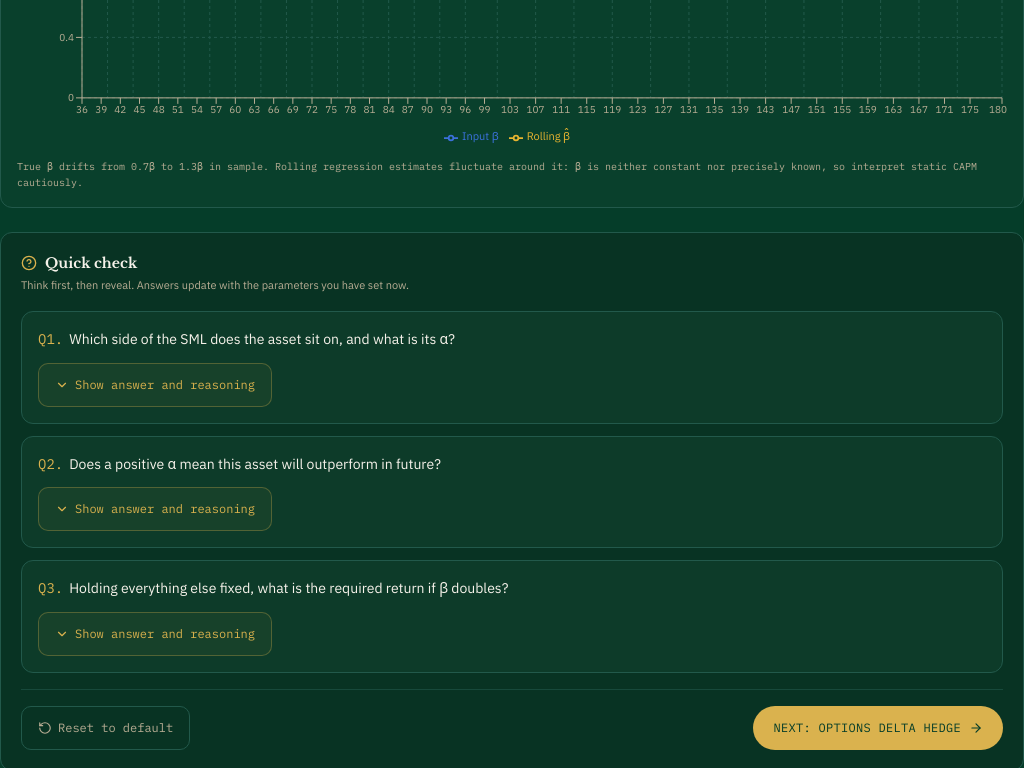
Test: CAPM baseline vs current › Reset restores defaults, closes revealed answers and clears the baseline
This screenshot has width=1024, height=768.
Later steps or results of the test are not shown.
(page scrolled)
Click the 1st button "Show answer and reasoning": click(155, 385) x1=38 y1=363 x2=272 y2=407
(page scrolled)
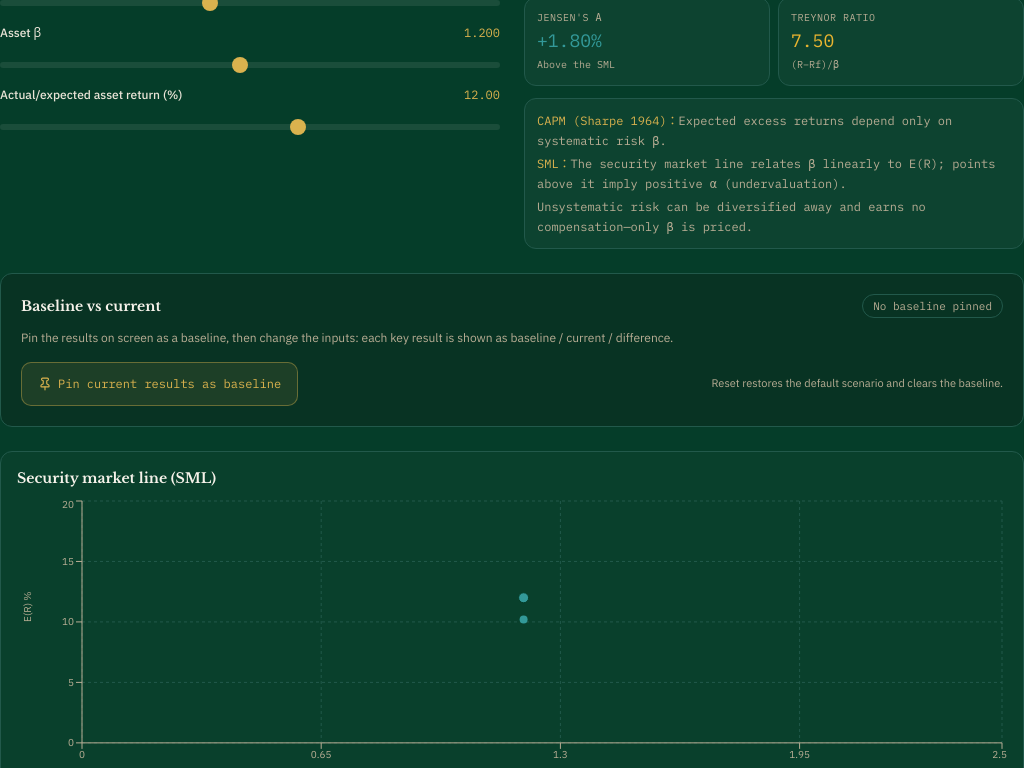
Click the button "Pin current results as baseline": click(160, 384) x1=21 y1=362 x2=298 y2=406
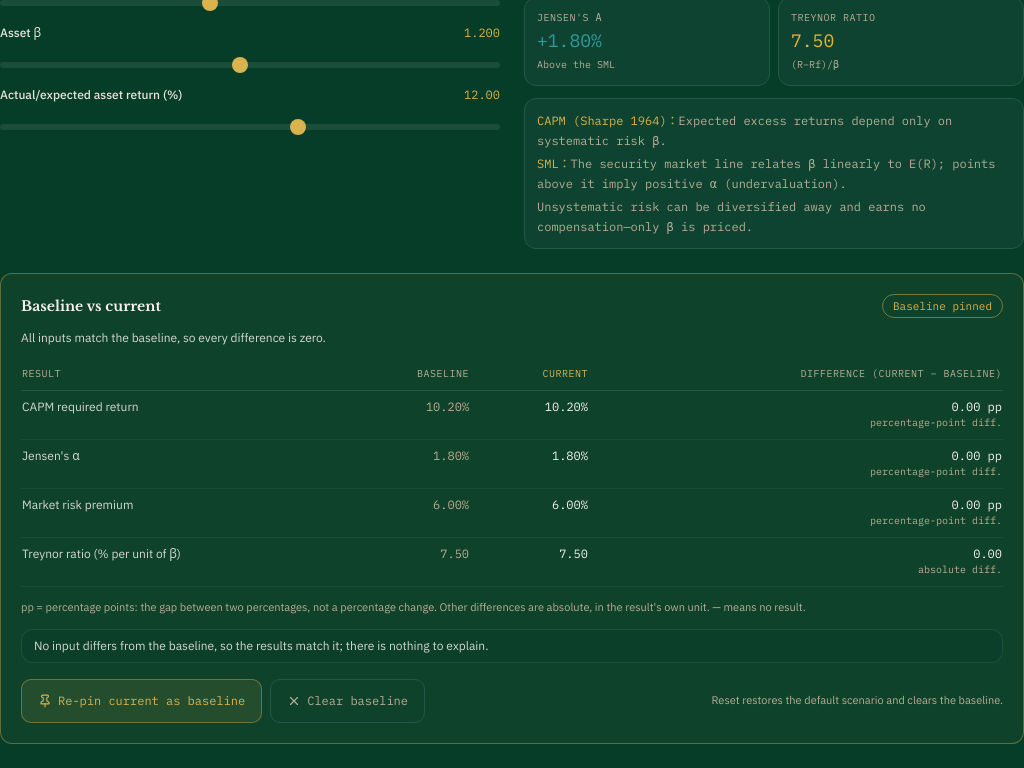
Set the slider named "Asset β" to "2": (395, 65) x1=0 y1=62 x2=500 y2=68
(page scrolled)
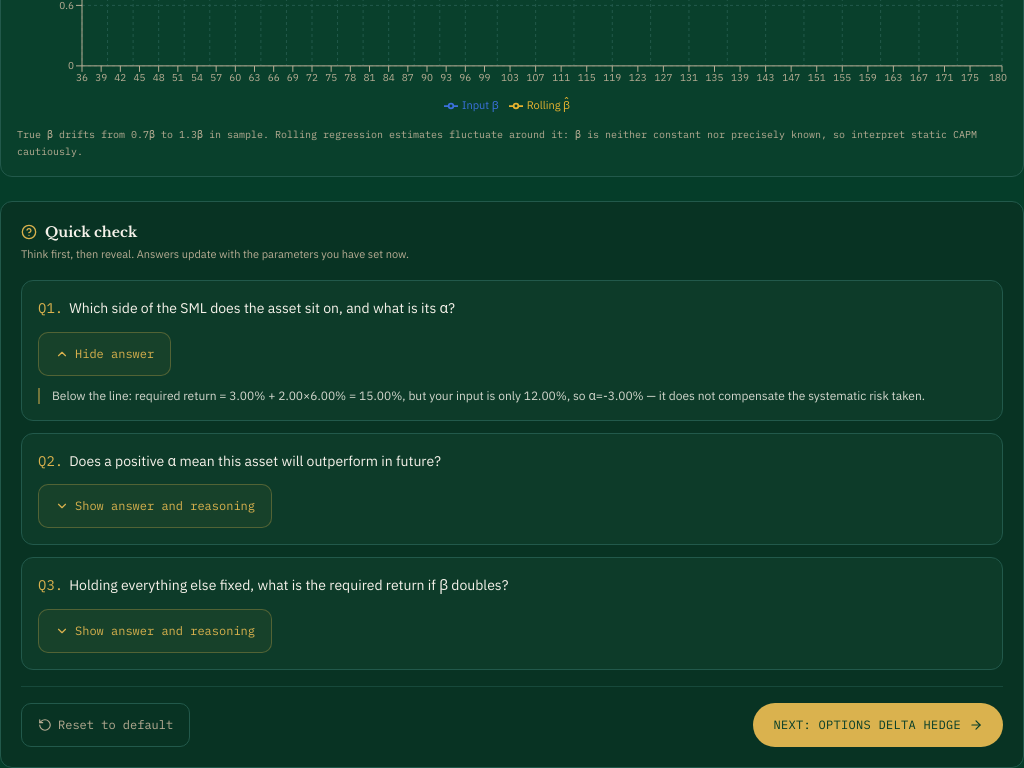
Click the button with test id "path-reset": click(106, 725) x1=21 y1=703 x2=190 y2=747
(page scrolled)
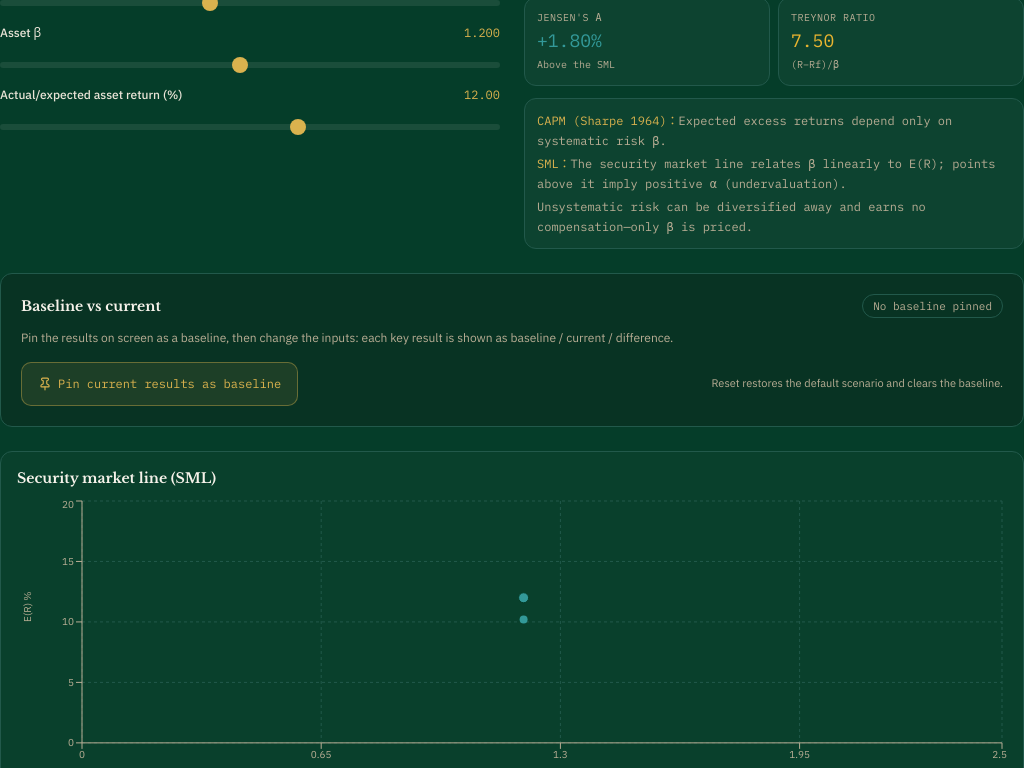
Expected: the slider named "Asset β" holds "1.2", x1=0 y1=62 x2=500 y2=68
